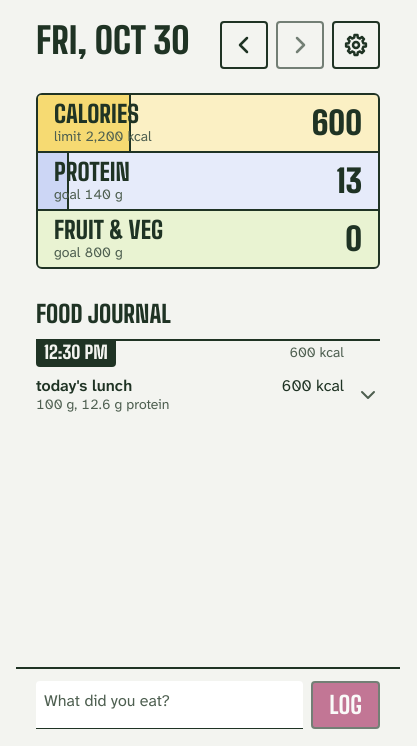
it: Today's header › shows the short date only, with no Today or Yesterday
Click the button named "Previous day" at (244, 45), box [220,21,268,69]
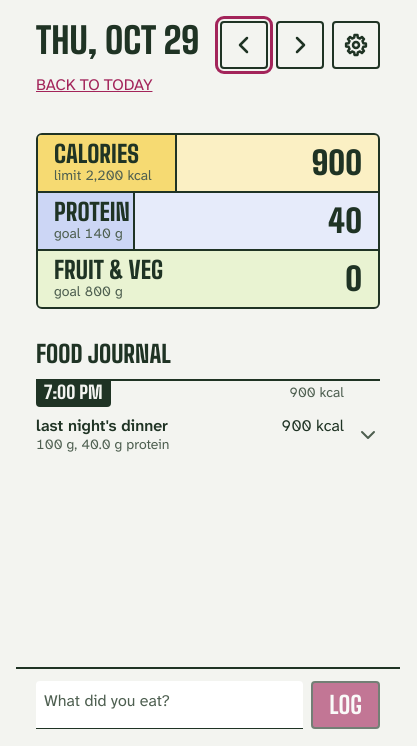
Expected: the heading does not show "today"
Expected: the text "Thu, Oct 29" is shown, [36,19,199,62]
